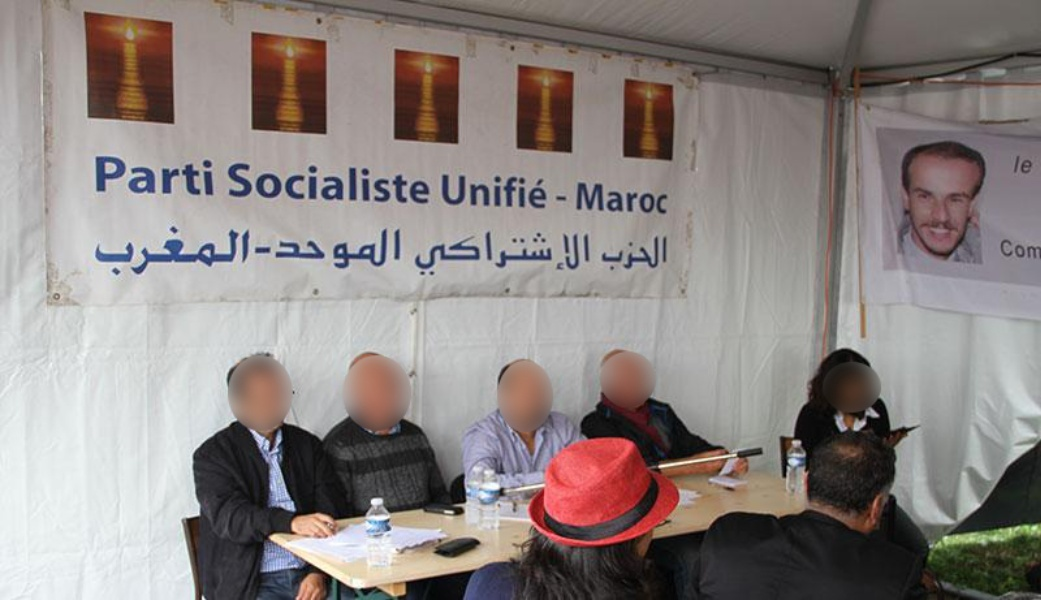text: (97, 222, 112, 278), (113, 222, 128, 278), (129, 222, 144, 278), (145, 222, 160, 278), (161, 222, 176, 278), (177, 222, 192, 278), (193, 222, 208, 278), (209, 222, 224, 278), (225, 222, 240, 278), (417, 159, 433, 205), (385, 224, 401, 270), (577, 231, 593, 276), (241, 159, 256, 205), (257, 159, 272, 205), (273, 159, 288, 205), (289, 159, 304, 205), (305, 159, 320, 205), (321, 159, 336, 205), (337, 159, 352, 205), (353, 159, 368, 205), (369, 159, 384, 205), (385, 159, 400, 205), (401, 159, 416, 205), (289, 224, 304, 270), (305, 224, 320, 270), (321, 224, 336, 270), (337, 224, 352, 270), (353, 224, 368, 270), (369, 224, 384, 270), (417, 231, 432, 276), (433, 231, 448, 276), (449, 231, 464, 276), (465, 231, 480, 276), (481, 231, 496, 276), (497, 231, 512, 276), (513, 231, 528, 276), (529, 231, 544, 276), (545, 231, 560, 276), (561, 231, 576, 276), (97, 153, 112, 198), (113, 153, 128, 198), (129, 153, 144, 198), (145, 153, 160, 198), (161, 153, 176, 198), (177, 153, 192, 198), (193, 153, 208, 198), (274, 224, 288, 270), (449, 168, 464, 210), (465, 168, 480, 210), (481, 168, 496, 210), (497, 168, 512, 210), (513, 168, 528, 210), (529, 168, 544, 210), (241, 222, 252, 278), (227, 159, 240, 205), (577, 179, 592, 218), (593, 179, 608, 218), (609, 179, 624, 218), (625, 179, 640, 218), (641, 179, 656, 218), (609, 235, 624, 271), (625, 235, 640, 271), (641, 235, 656, 271), (657, 179, 669, 218), (657, 235, 669, 271), (1012, 150, 1024, 183), (1009, 237, 1024, 262), (1025, 237, 1040, 262), (598, 235, 608, 271), (209, 153, 217, 198), (440, 168, 448, 210), (1025, 150, 1034, 183), (997, 237, 1008, 262), (410, 231, 416, 276), (257, 243, 272, 258), (92, 222, 96, 278), (92, 153, 96, 198), (573, 179, 576, 218), (561, 193, 569, 205), (545, 168, 547, 210), (555, 193, 560, 205), (253, 243, 256, 258), (273, 243, 274, 258)
